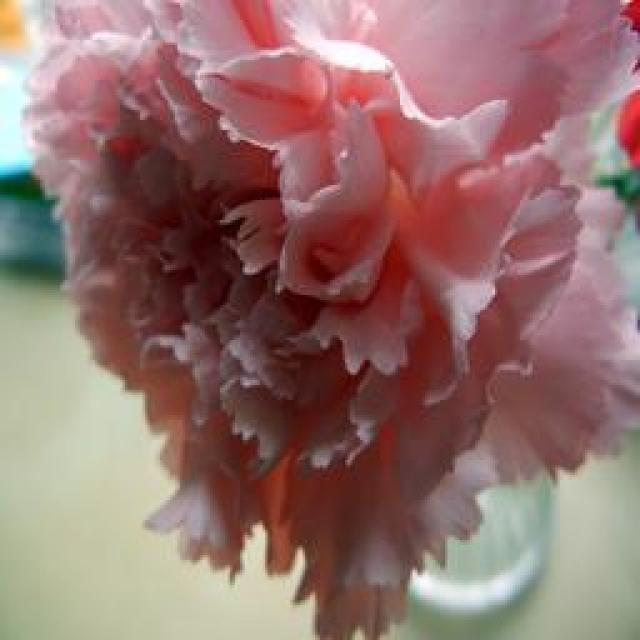carnation: (12, 0, 640, 625)
